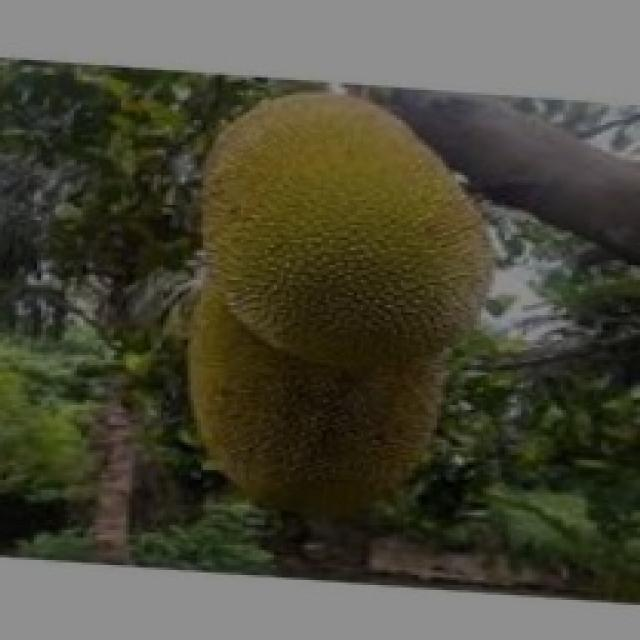Fruit: (163, 75, 526, 395)
